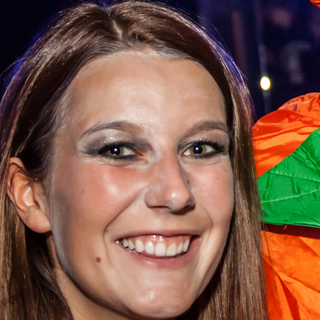eye: (91, 139, 142, 165), (179, 136, 225, 164)
